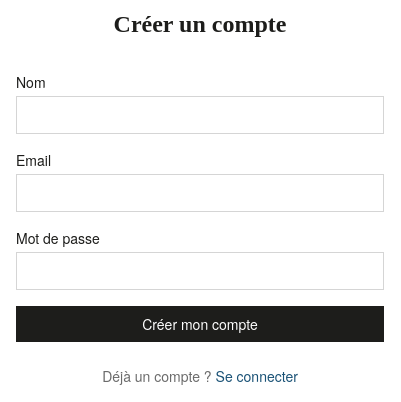
Scenario: SignUpPage — état loading › affiche "Création..." pendant la soumission
This screenshot has width=401, height=402.
Type "Alice Dupont" into the field labelled "Nom" at (200, 115), box [16, 96, 384, 134]
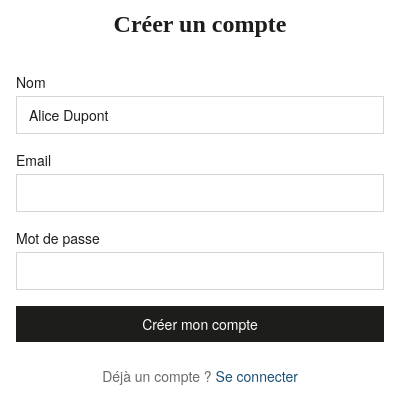
Type "alice@example.com" into the field labelled "Email" at (200, 193), box [16, 174, 384, 212]
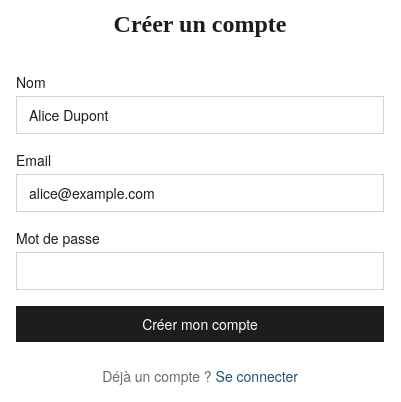
Type "secret123" into the password field labelled "Mot de passe" at (200, 271), box [16, 252, 384, 290]
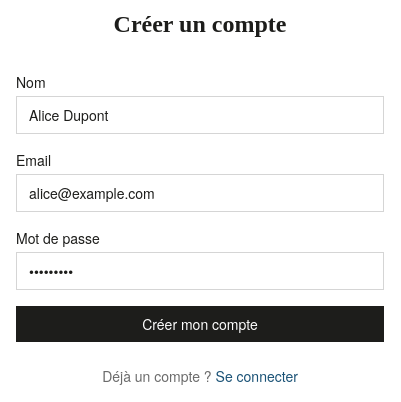
Click the button "Créer mon compte" at (200, 324), box [16, 306, 384, 342]
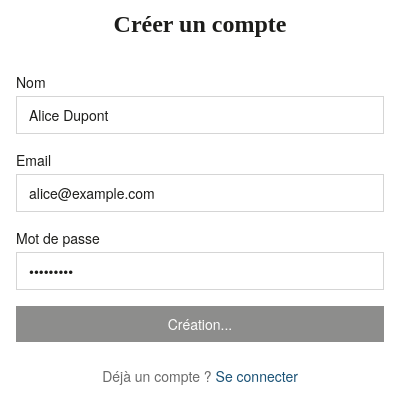
Expected: the button "Création..." is shown, [16, 306, 384, 342]
